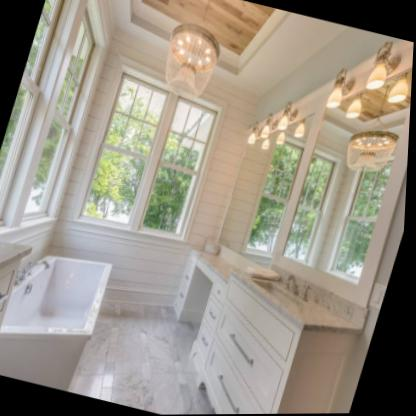Window: (75, 53, 232, 244)
